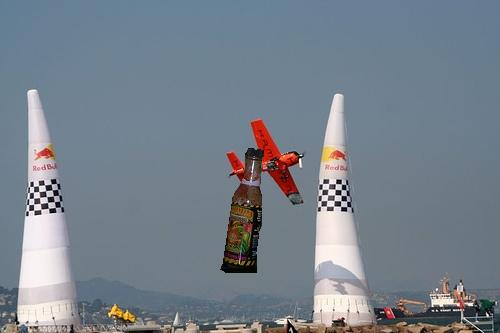tampered: (221, 149, 264, 273)
